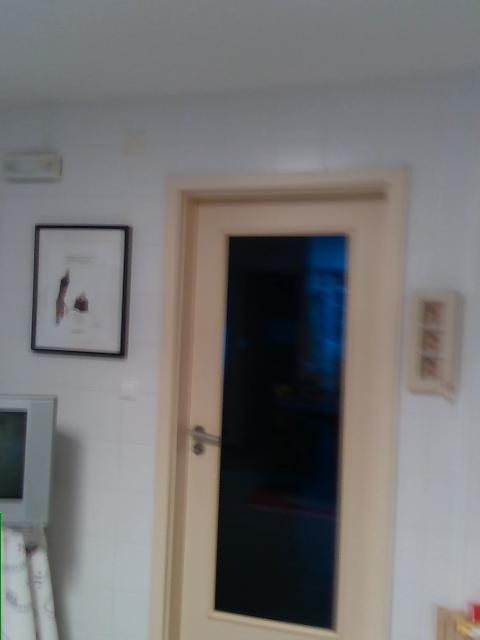door: (150, 166, 412, 639)
